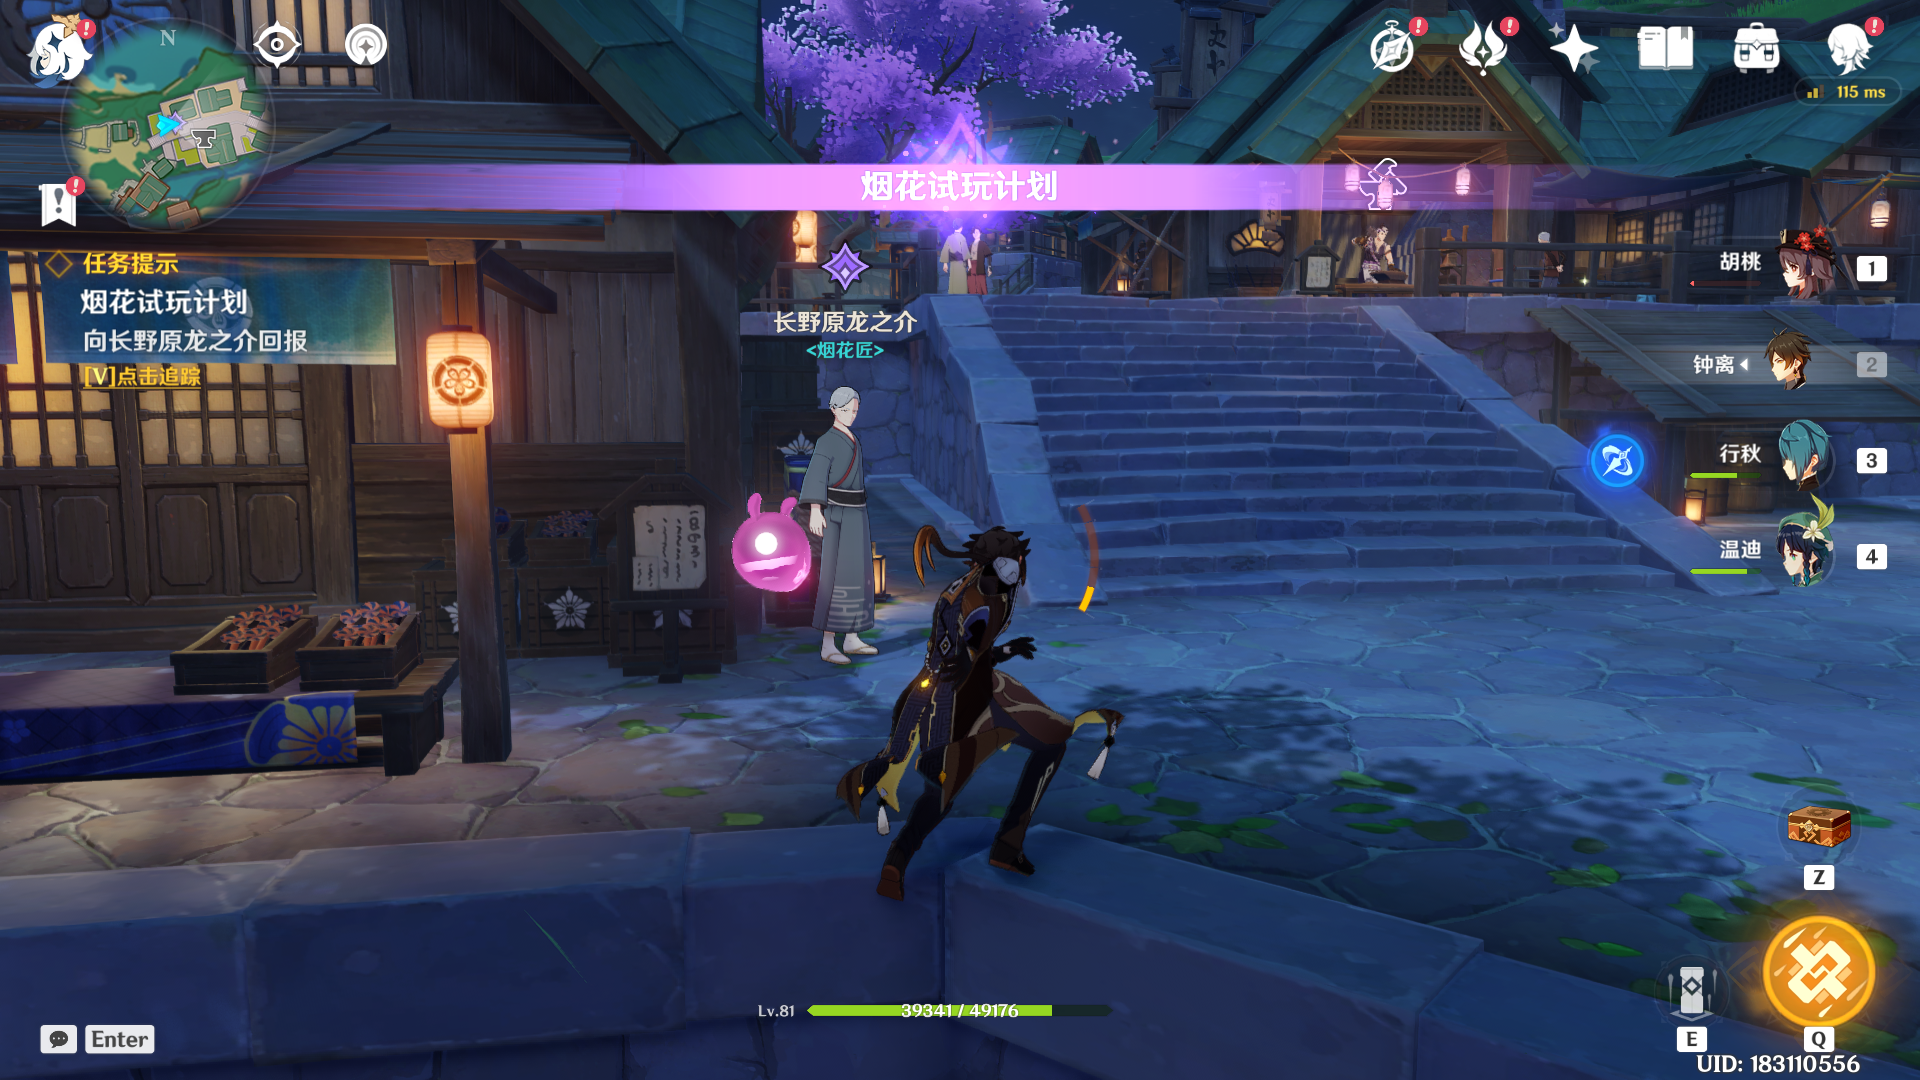character: (841, 495, 1108, 913)
